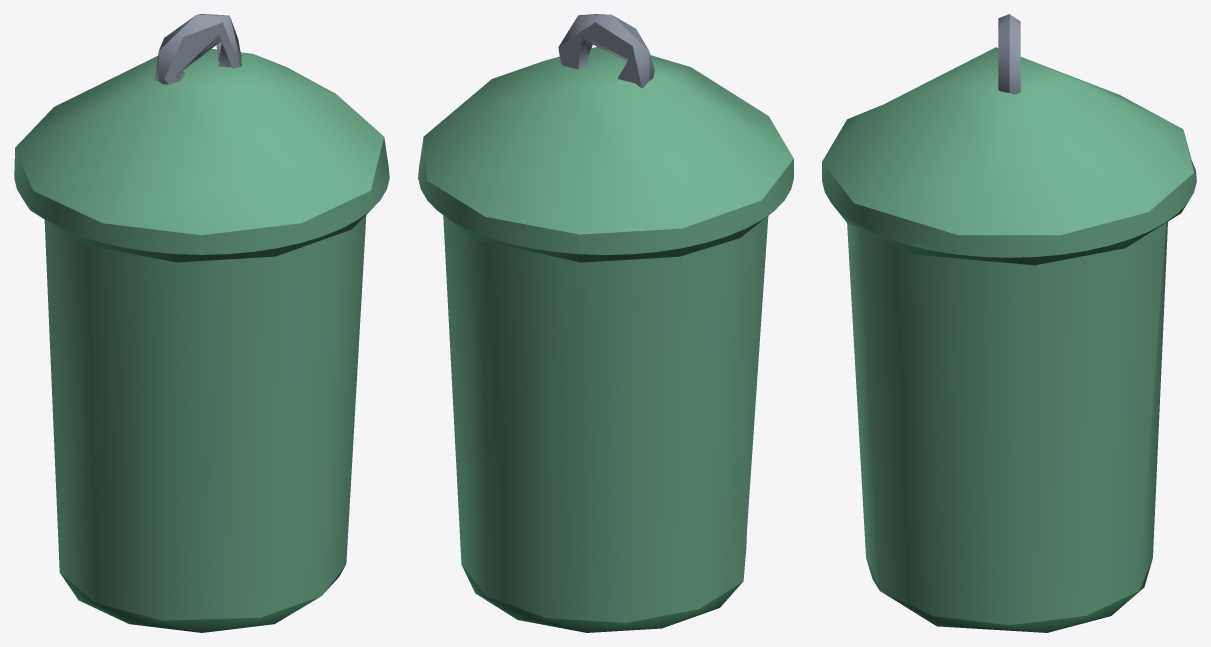
Rendered from trashcan.glb.
3 views of the same model, side by side, from view 1: azimuth 30°, elevation 25°; view 2: azimuth 150°, elevation 25°; view 3: azimuth 270°, elevation 25° (orthographic).
Parts seen in each view (by area): view 1: trashcan; view 2: trashcan; view 3: trashcan.
Part boxes in pixels (bbox=[...]): trashcan: bbox=[14, 14, 389, 632]; trashcan: bbox=[418, 14, 793, 632]; trashcan: bbox=[822, 14, 1196, 632].
Bounding box in the file's own units: 0.5193 × 0.8574 × 0.5197.
1 material, 1 textured.
